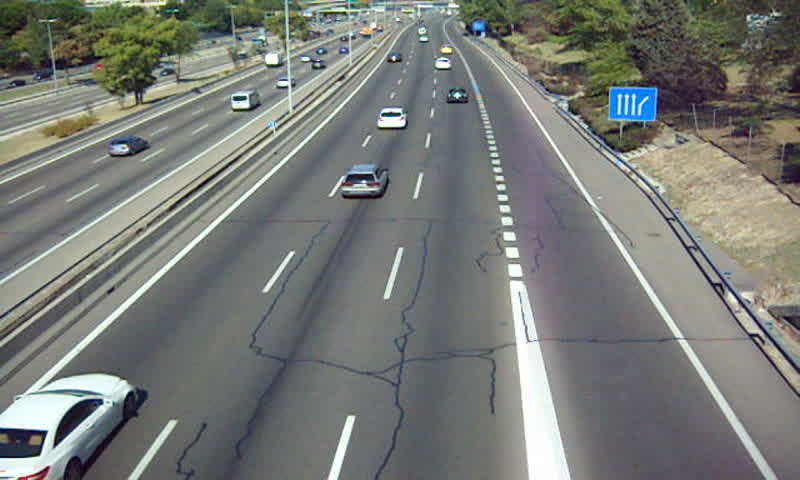car: (1, 373, 140, 480), (339, 166, 388, 198), (379, 107, 408, 128), (446, 87, 468, 105), (435, 56, 450, 69)
